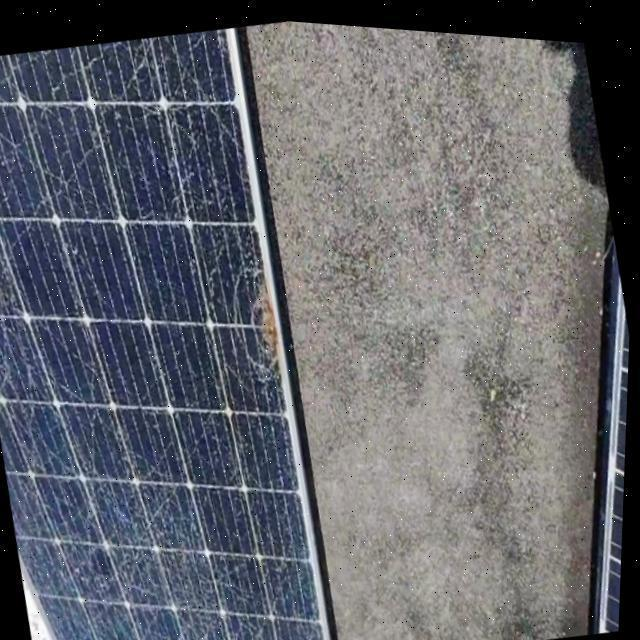Normal Solar Panel: (509, 197, 635, 628)
